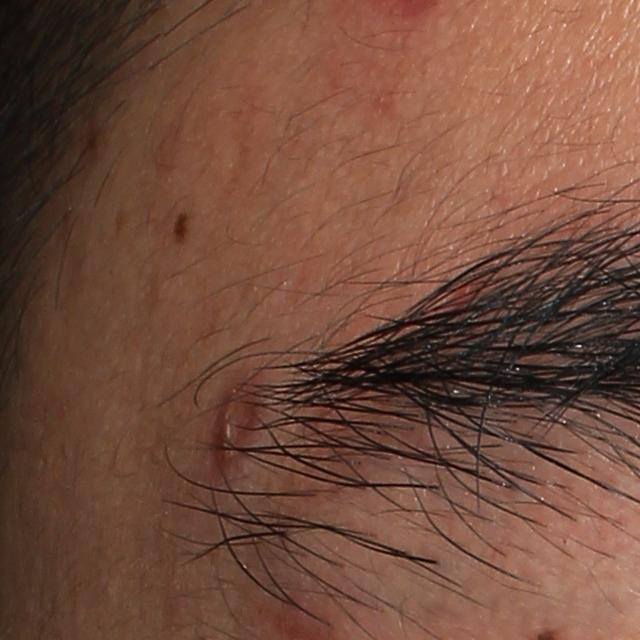nevus: (168, 201, 190, 242)
